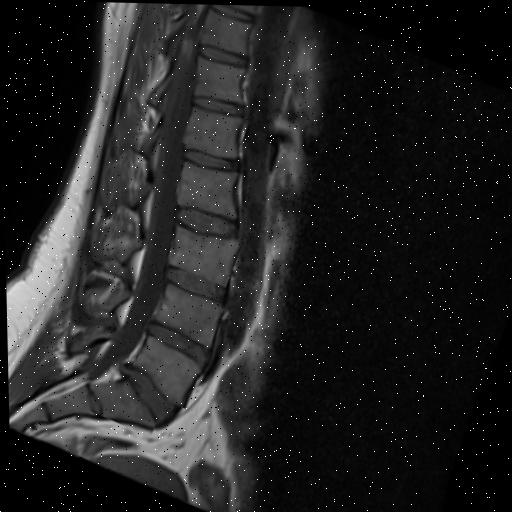L1: (183, 108, 241, 158)
L2: (176, 162, 236, 220)
L3: (166, 226, 237, 286)
L4: (152, 283, 222, 346)
L5: (132, 335, 200, 404)
S1: (87, 379, 153, 426)
